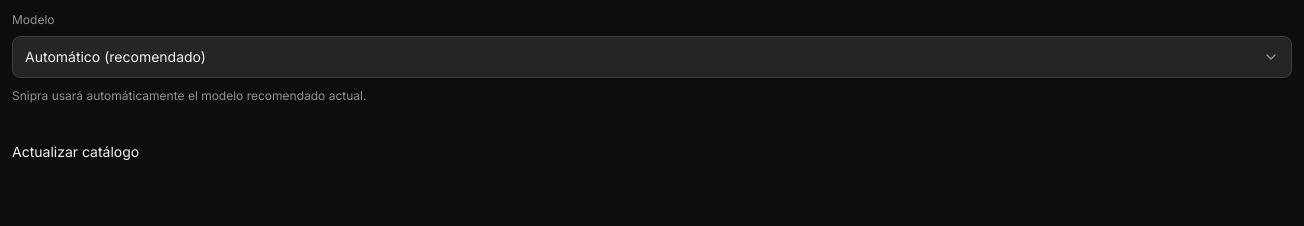
NVIDIA dynamic selection › discovers new IDs, lists auto first and emits auto or the exact manual ID
Later steps or results of the test are not shown.
Expected: the button "Actualizar catálogo" is shown, [12,142,1292,162]
Expected: the text "Snipra usará automáticamente el modelo recomendado actual." is shown, [12,88,366,103]
Click the button with aria-label "Modelo": (115, 56) [12,36,1292,78]
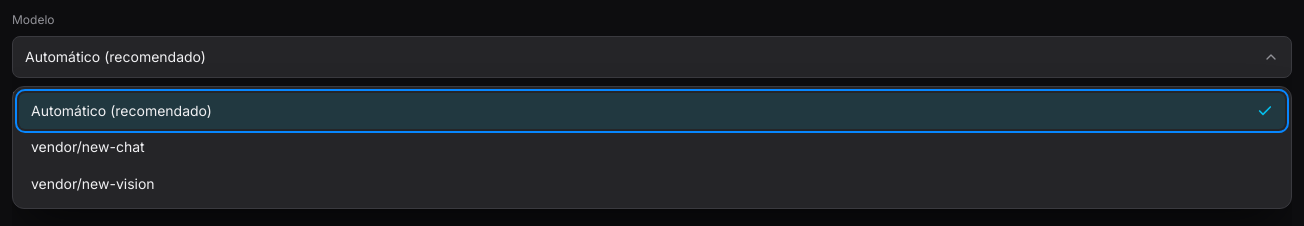
Now the option "Automático (recomendado)" is shown, box [19,93,1285,129]
